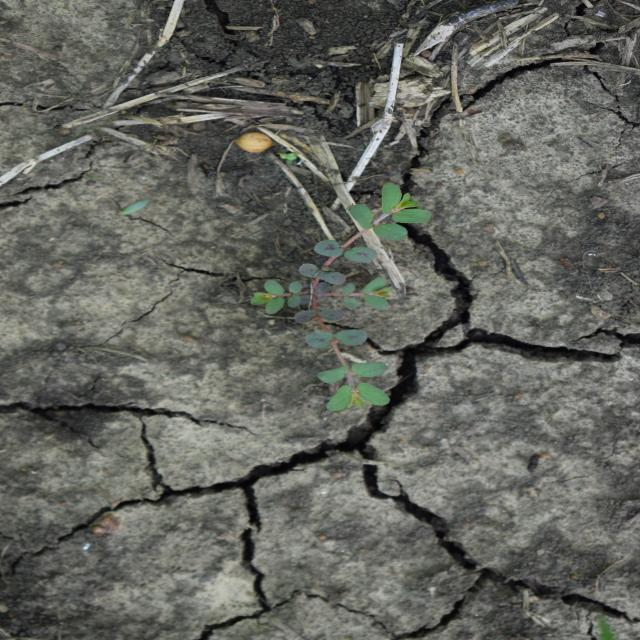SpottedSpurge: (246, 183, 437, 414)
